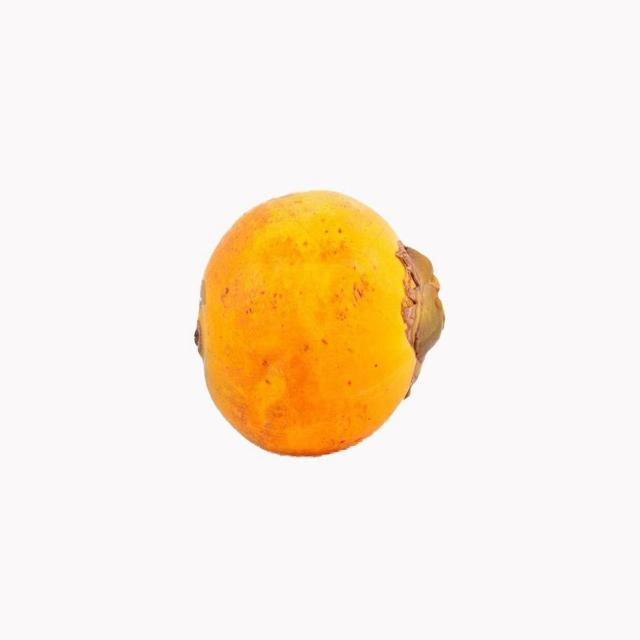good: (194, 190, 446, 460)
